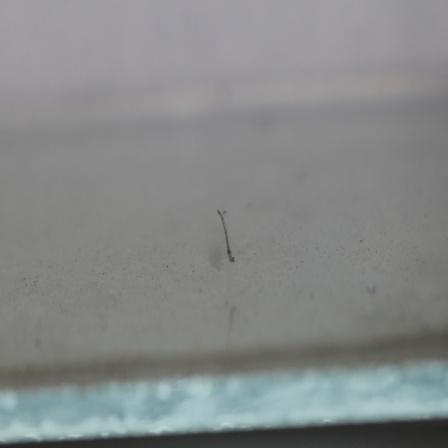Jentik-Nyamuk: (214, 206, 241, 270)
